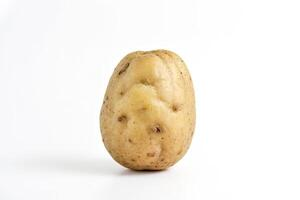potato rotten: (86, 44, 207, 178)
